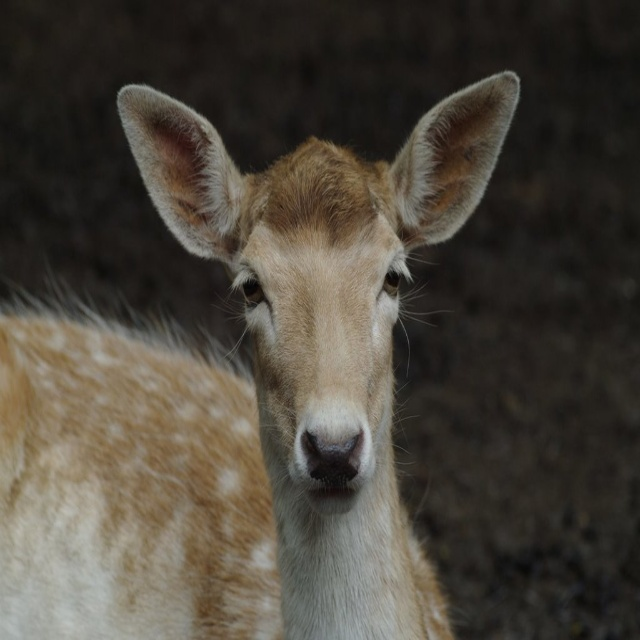Deer: (0, 67, 520, 639)
